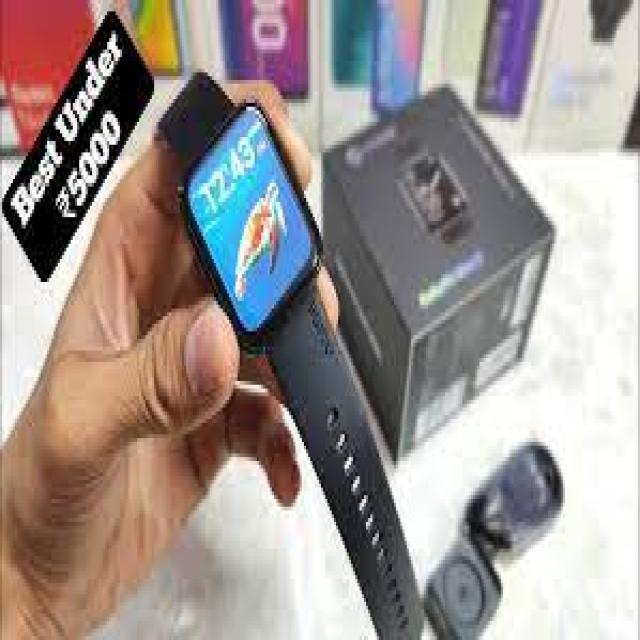objects: (158, 72, 420, 636)
